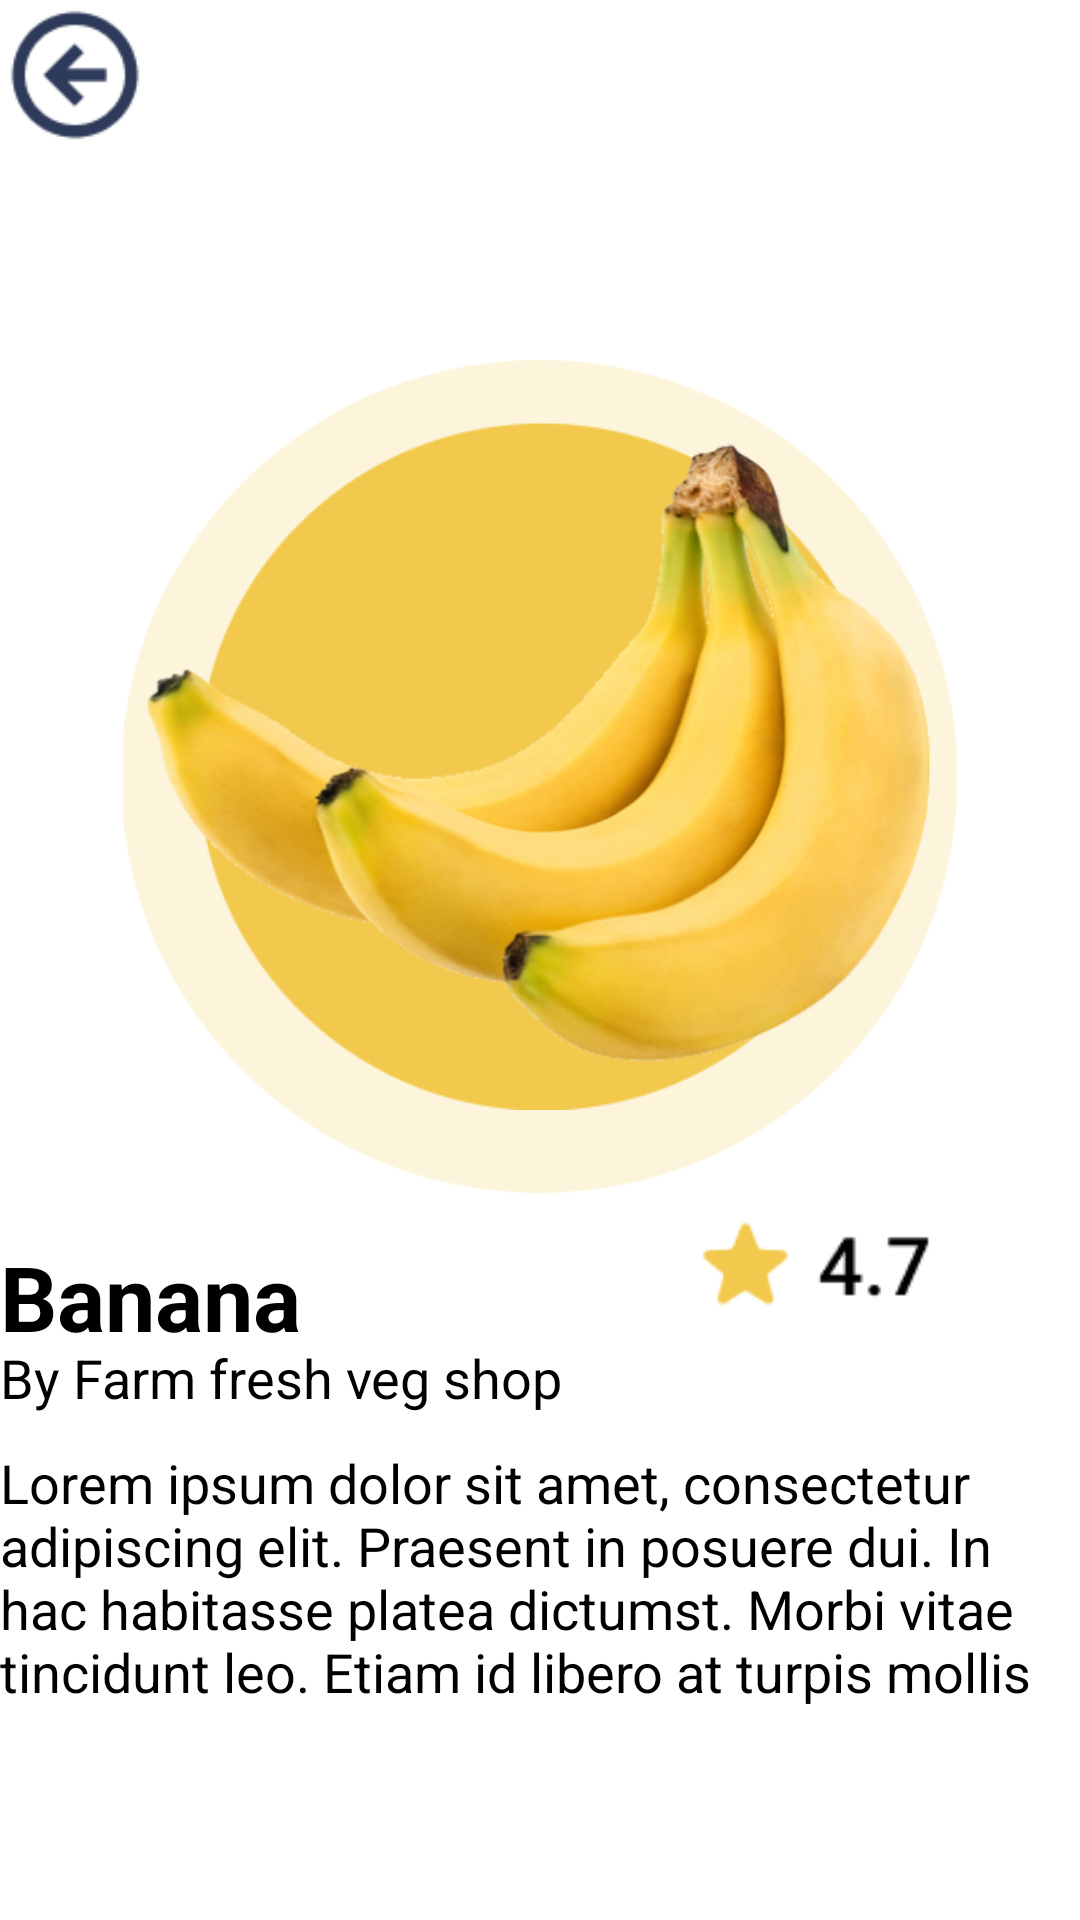

Named icons in this screenshot (1080x1920) and their bounding boxes, (x1, y1, x2, y2):
back: (11, 11, 139, 139)
